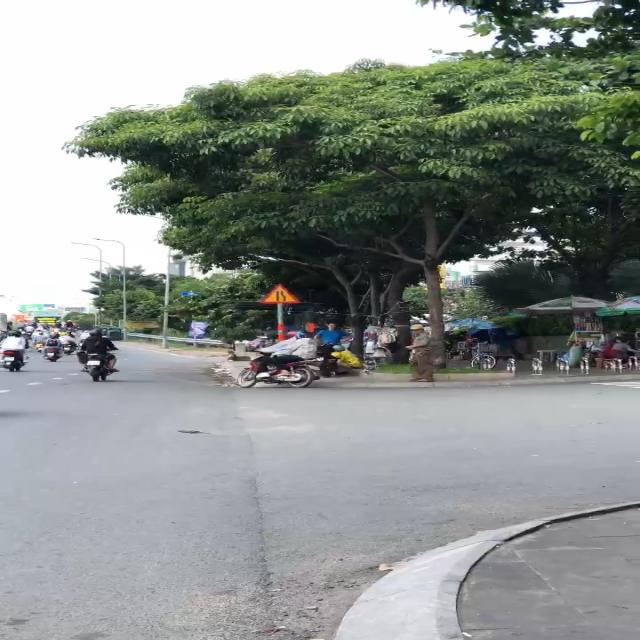Bien bao duong bi thu hep: (256, 284, 304, 305)
